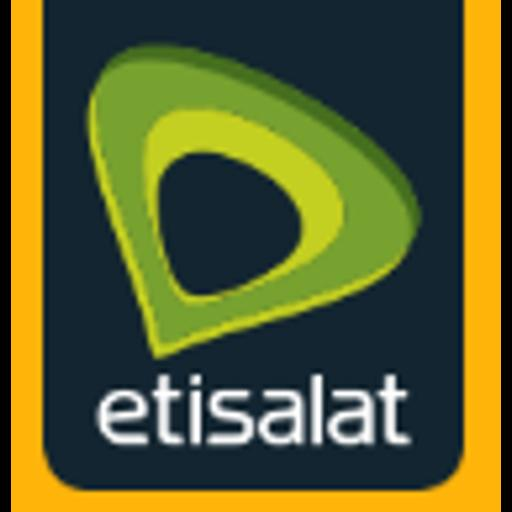Etisalat: (11, 0, 501, 512)
